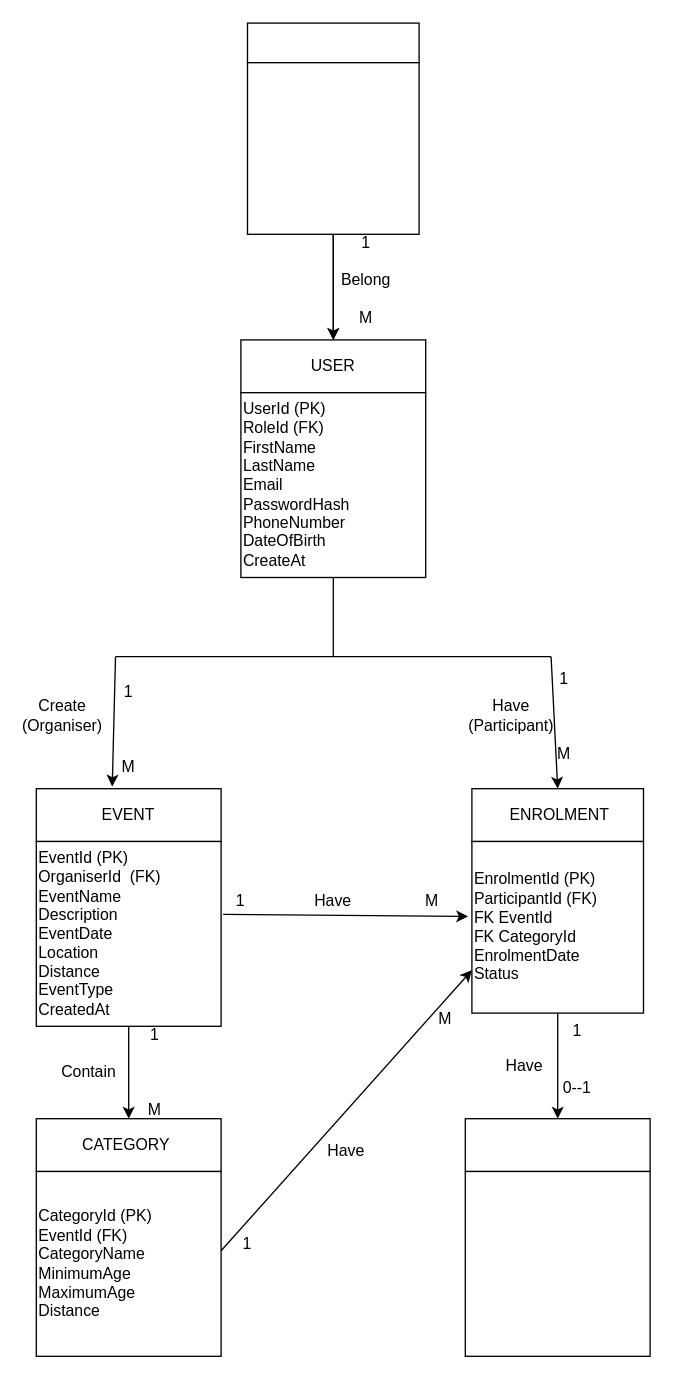
This 673x1379 diagram has some shape labels left out. Here are the shapes that lost their labels. From the top down, the centre of each, then its label:
At point (332, 42): "ROLE".
At point (332, 147): "RoleId (PK) RoleName".
At point (557, 1144): "RESULT".
At point (557, 1263): "ResultId (PK) EnrolmentId (FK) FinishTime FinishPosition RecordedAt".
